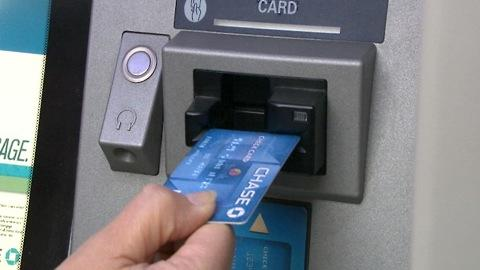tarjeta: (160, 126, 302, 226)
